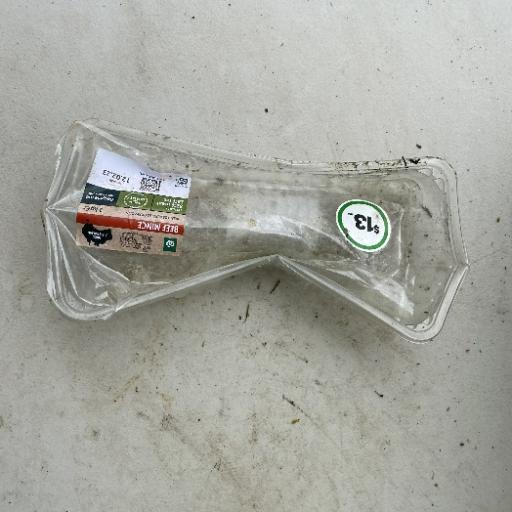Plastic: (40, 116, 470, 345), (74, 147, 192, 257)
